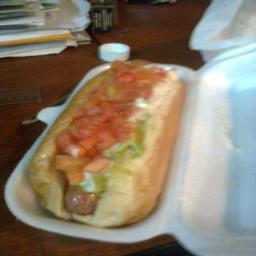hotdog: (32, 56, 191, 227)
